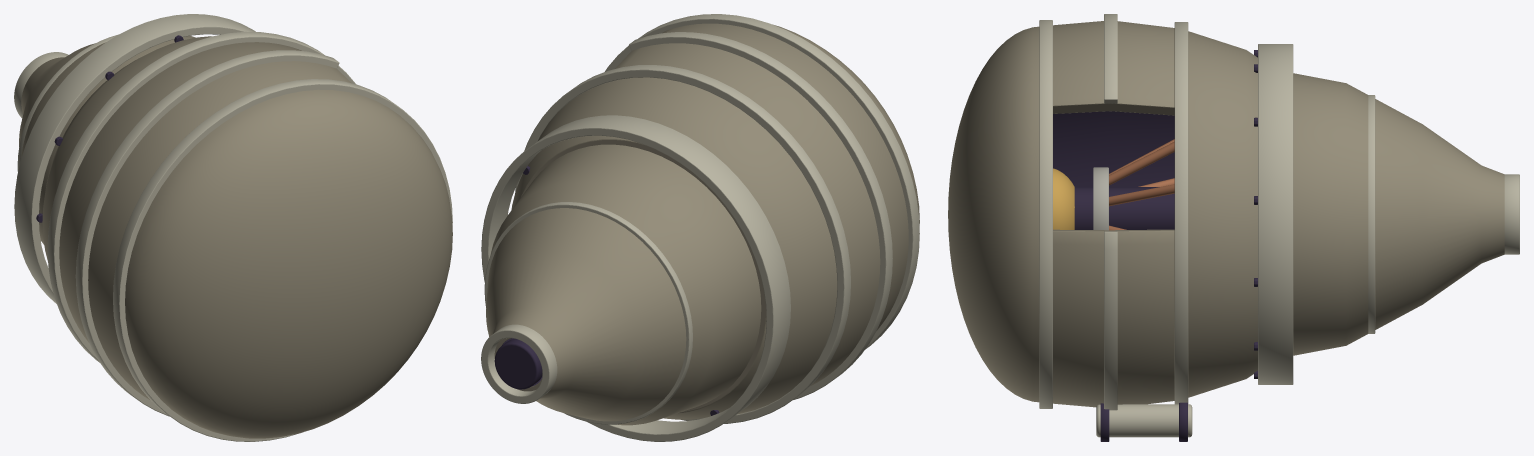
3 views of the same model, side by side, from view 1: azimuth 30°, elevation 25°; view 2: azimuth 150°, elevation 25°; view 3: azimuth 270°, elevation 25° (orthographic).
Visible parts, largest first — view 1: Rounded front enclosing cap, Windowed enclosure wall, Broad mounting collar, Enclosure reinforcing band, Window interrupted reinforcing band, Enclosure reinforcing band.001, Rear enclosure, Tapered connector pressure shell, Connector service ring, Connector terminal lip; view 2: Tapered connector pressure shell, Rear enclosure, Windowed enclosure wall, Broad mounting collar, Enclosure reinforcing band.001, Window interrupted reinforcing band, Enclosure reinforcing band, Connector service ring, Connector terminal lip, Recessed connector interior, Rounded front enclosing cap; view 3: Tapered connector pressure shell, Windowed enclosure wall, Rounded front enclosing cap, Rear enclosure, Broad mounting collar, Enclosure reinforcing band.001, Enclosure reinforcing band, Window interrupted reinforcing band, Shield axial equipment spine, External service accumulator, Connector service ring, Connector terminal lip (+4 smaller).
Boxes of the visible parts, box(x1,y1,x2,y2) form: Rounded front enclosing cap: box(125, 89, 452, 438); Windowed enclosure wall: box(59, 42, 351, 400); Broad mounting collar: box(14, 14, 255, 303); Enclosure reinforcing band: box(113, 79, 452, 441); Window interrupted reinforcing band: box(75, 50, 339, 416); Enclosure reinforcing band.001: box(47, 31, 356, 362); Rear enclosure: box(42, 36, 211, 260); Tapered connector pressure shell: box(19, 35, 195, 244); Connector service ring: box(17, 34, 118, 171); Connector terminal lip: box(14, 52, 68, 118); Tapered connector pressure shell: box(486, 144, 761, 425); Rear enclosure: box(511, 77, 837, 419); Windowed enclosure wall: box(615, 23, 908, 385); Broad mounting collar: box(481, 115, 790, 441); Enclosure reinforcing band.001: box(515, 65, 850, 423); Window interrupted reinforcing band: box(629, 32, 892, 399); Enclosure reinforcing band: box(605, 14, 919, 349); Connector service ring: box(484, 202, 692, 424); Connector terminal lip: box(481, 324, 557, 403); Recessed connector interior: box(494, 338, 542, 389); Rounded front enclosing cap: box(773, 24, 919, 225); Tapered connector pressure shell: box(1293, 73, 1504, 355); Windowed enclosure wall: box(1053, 21, 1174, 407); Rounded front enclosing cap: box(948, 26, 1039, 402); Rear enclosure: box(1188, 31, 1257, 397); Broad mounting collar: box(1258, 44, 1293, 384); Enclosure reinforcing band.001: box(1174, 22, 1188, 404); Enclosure reinforcing band: box(1039, 20, 1052, 408); Window interrupted reinforcing band: box(1104, 14, 1117, 410); Shield axial equipment spine: box(1074, 187, 1174, 229); External service accumulator: box(1096, 404, 1192, 437); Connector service ring: box(1368, 95, 1375, 333); Connector terminal lip: box(1504, 174, 1519, 254).
Bounding box in the file's own units: 2.04 × 2.04 × 2.91.
